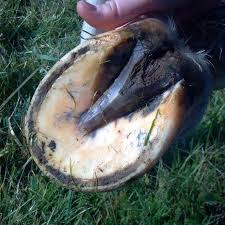horsesole: (23, 31, 185, 194)
